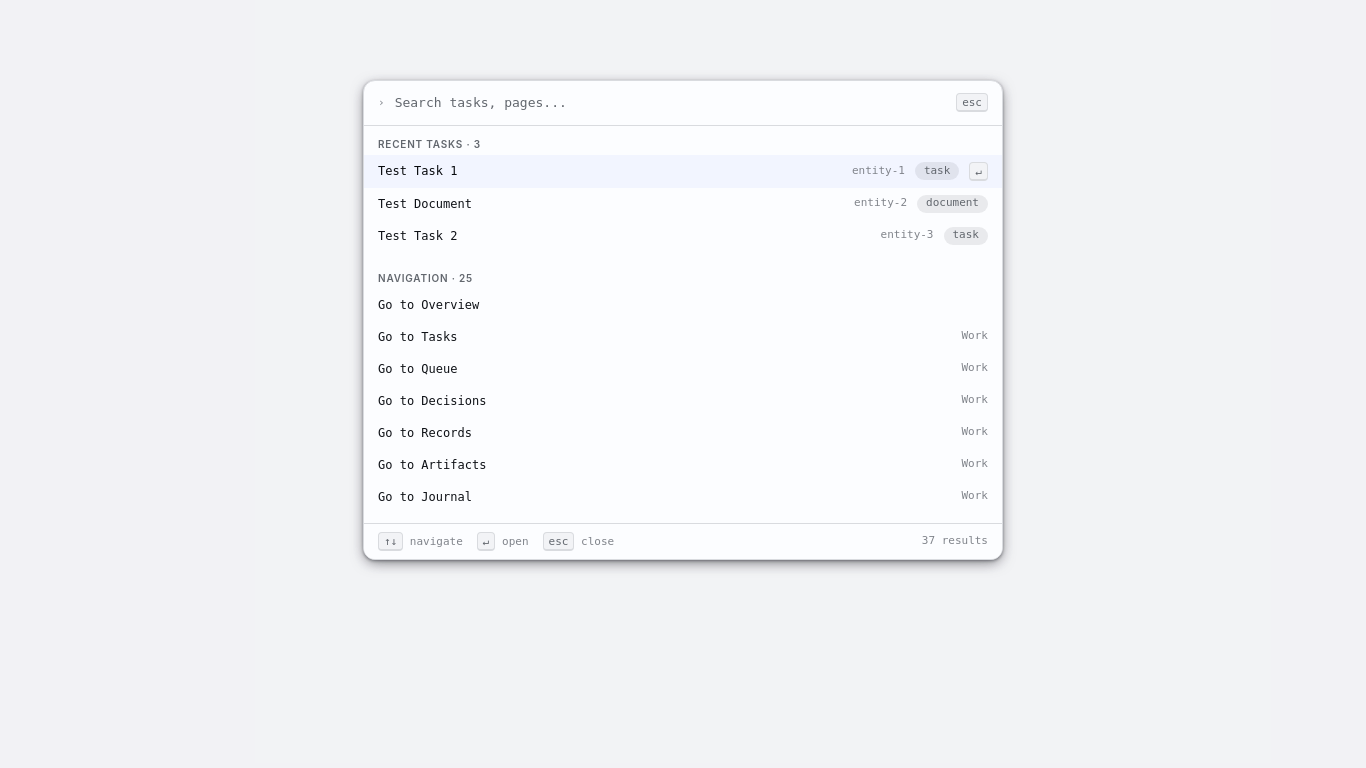
Test: CommandPalette › lists every section's pages, including ones missing before
Type "go to" into the dropdown. click: (670, 103)
box: [395, 93, 946, 112]
(page scrolled)
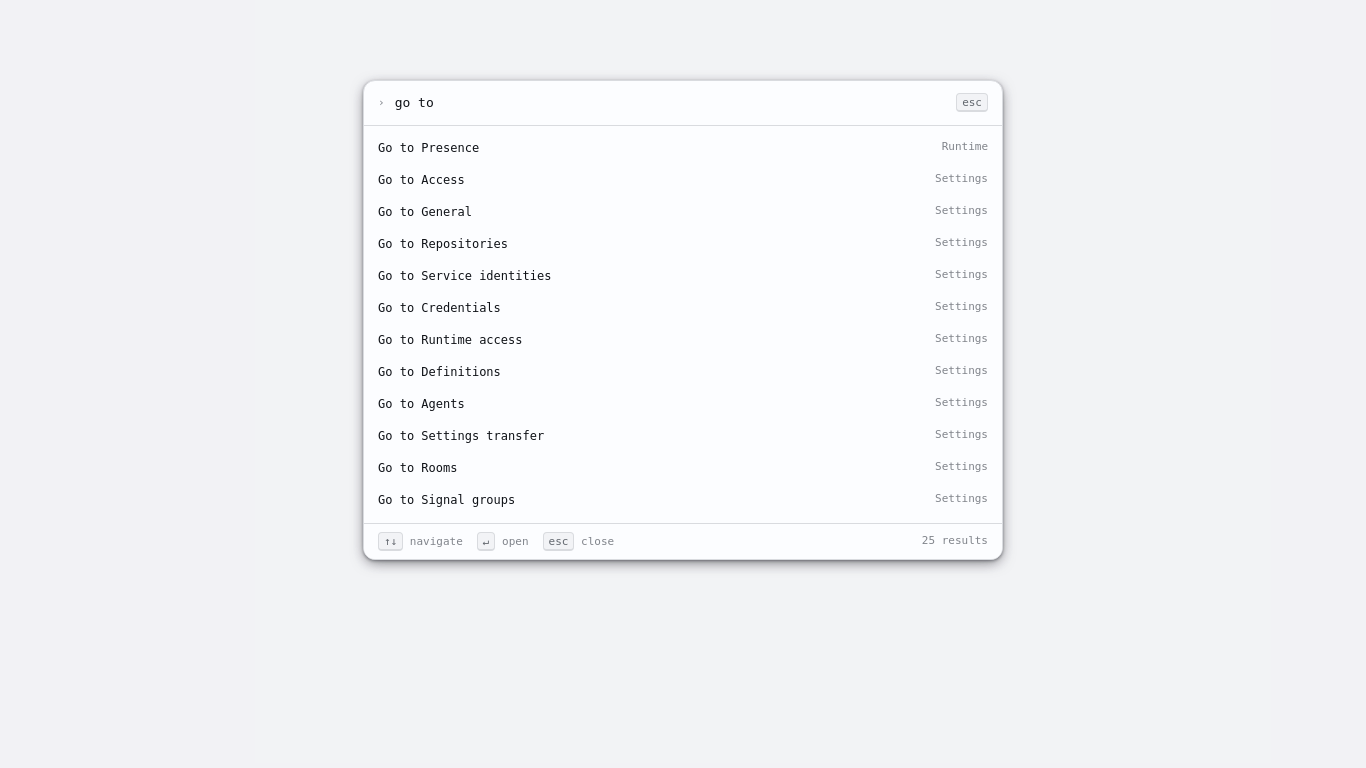
Check: the text "Go to Agents" is shown 2 times
Check: the text "Go to Rooms" is shown 2 times
